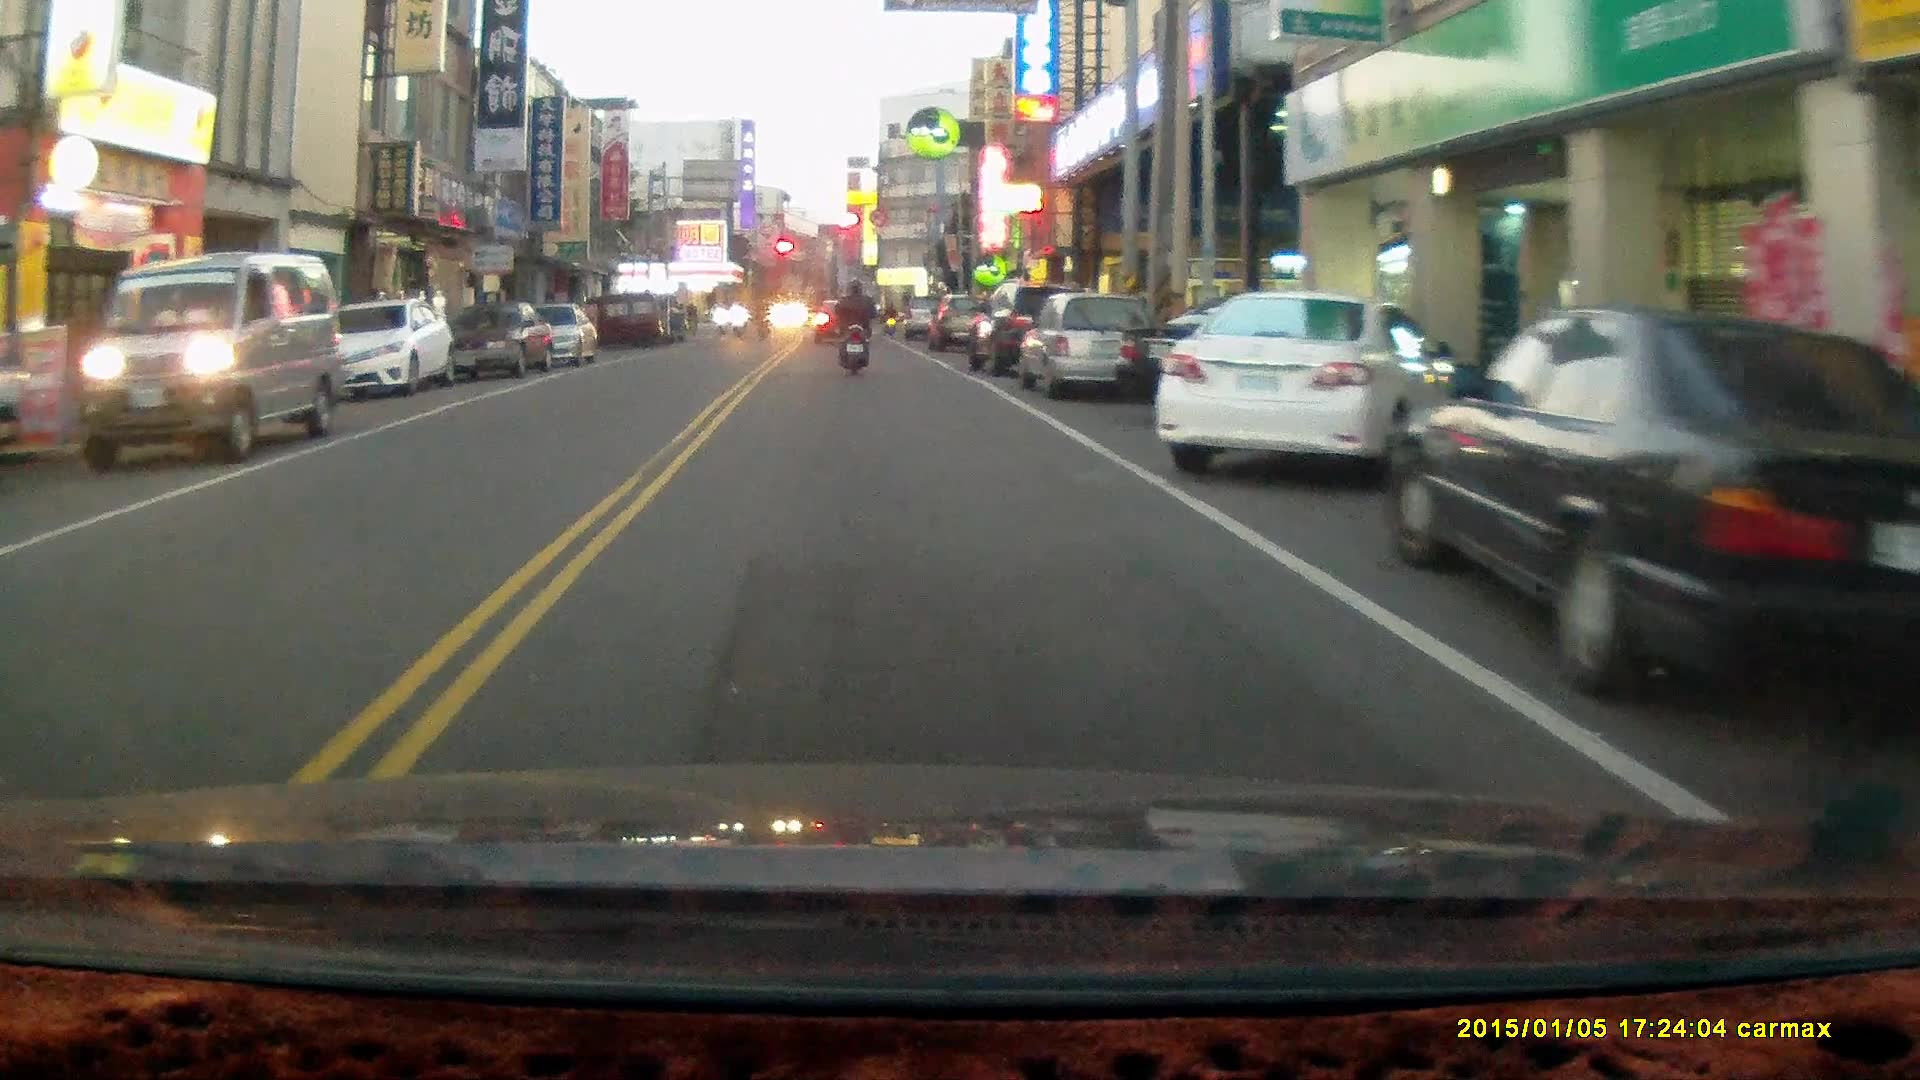rider: (833, 277, 878, 379)
vehicle: (1384, 308, 1920, 719), (1154, 290, 1448, 488), (81, 249, 345, 464), (1017, 293, 1161, 395), (316, 295, 456, 398), (961, 286, 1106, 385), (442, 299, 558, 385), (508, 302, 597, 374)
